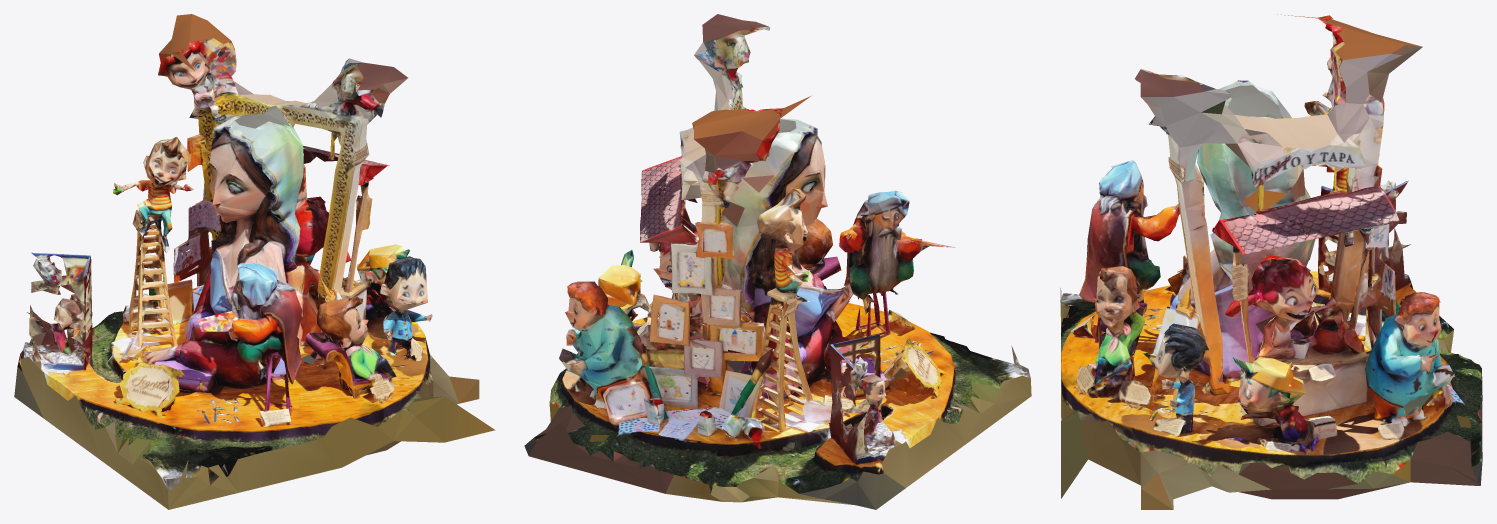
The model's file is falla_infantil_segrelles_2024_-_test_small_ULTRA_001.glb.
3 views of the same model, side by side, from view 1: azimuth 30°, elevation 25°; view 2: azimuth 150°, elevation 25°; view 3: azimuth 270°, elevation 25° (orthographic). The views are drawn at different scales.
Size of the model in its own units: 2.94 by 2.74 by 2.79.
1 material, 1 textured.
